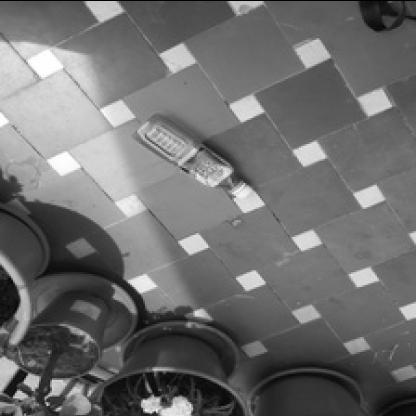plastic_bottles: (133, 108, 271, 216)
